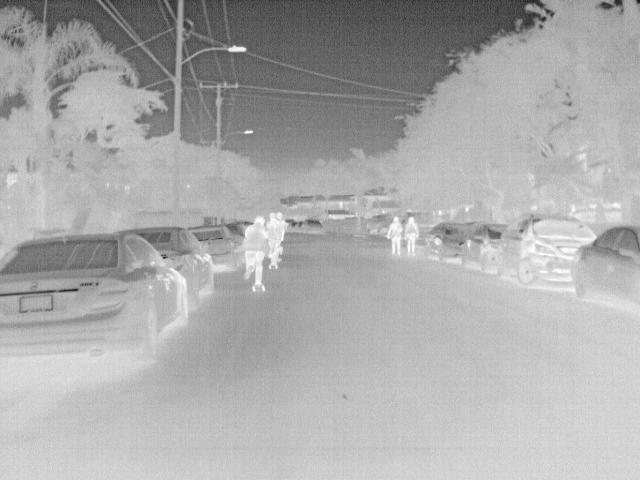car: (2, 228, 192, 364), (501, 213, 599, 287), (571, 223, 639, 309), (136, 227, 213, 301), (461, 222, 513, 275), (194, 224, 247, 272), (425, 223, 472, 264), (365, 213, 394, 233), (295, 218, 325, 236), (286, 220, 302, 234)
person: (241, 213, 268, 283), (263, 212, 282, 260), (403, 215, 420, 254), (387, 216, 405, 252)
